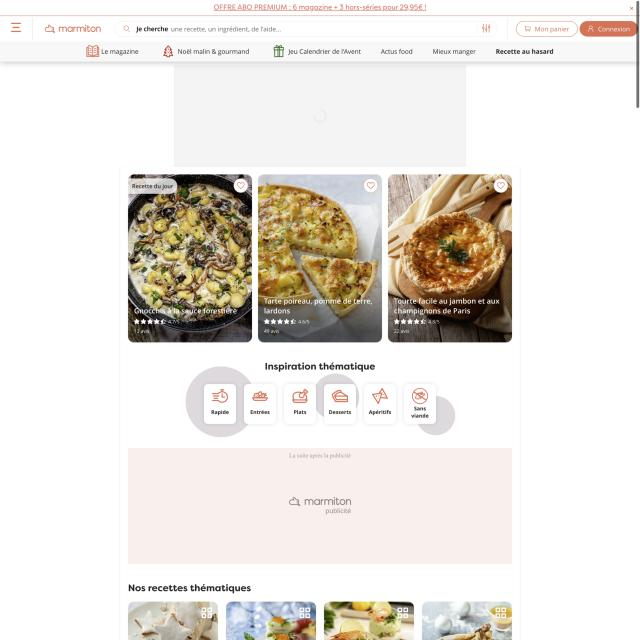CheckBox: (515, 19, 578, 38), (580, 20, 638, 38)
CheckedTextView: (113, 20, 500, 38)
ImageView: (128, 448, 512, 563), (173, 65, 466, 166), (0, 0, 638, 15)
Input field: (262, 296, 374, 314), (133, 306, 241, 316)
RadioButton: (127, 179, 177, 193)
accordion: (504, 17, 512, 39), (30, 18, 34, 40)
bag: (0, 0, 640, 62)
breadcrumbs: (262, 358, 378, 373), (127, 582, 253, 595)
carousel: (210, 386, 230, 405), (410, 386, 430, 405), (289, 388, 311, 405), (7, 18, 26, 36), (370, 387, 390, 404), (330, 388, 350, 403), (251, 387, 269, 403), (493, 178, 509, 194), (84, 44, 100, 59), (233, 177, 248, 193), (364, 178, 378, 193), (479, 22, 493, 36), (272, 42, 284, 58), (162, 44, 174, 59), (121, 24, 132, 35), (159, 317, 167, 326), (132, 317, 140, 325), (263, 318, 270, 325), (420, 319, 427, 326), (290, 318, 296, 326), (394, 318, 399, 326)
copy: (127, 172, 252, 342), (389, 173, 512, 343), (258, 174, 382, 342)
data feed: (409, 406, 432, 421), (248, 408, 272, 417), (328, 408, 353, 416), (368, 409, 392, 417), (210, 408, 231, 416), (292, 408, 308, 416)
date picker: (40, 21, 105, 37)
decoration: (73, 39, 560, 61), (4, 17, 29, 38)
footer: (134, 24, 282, 34)
